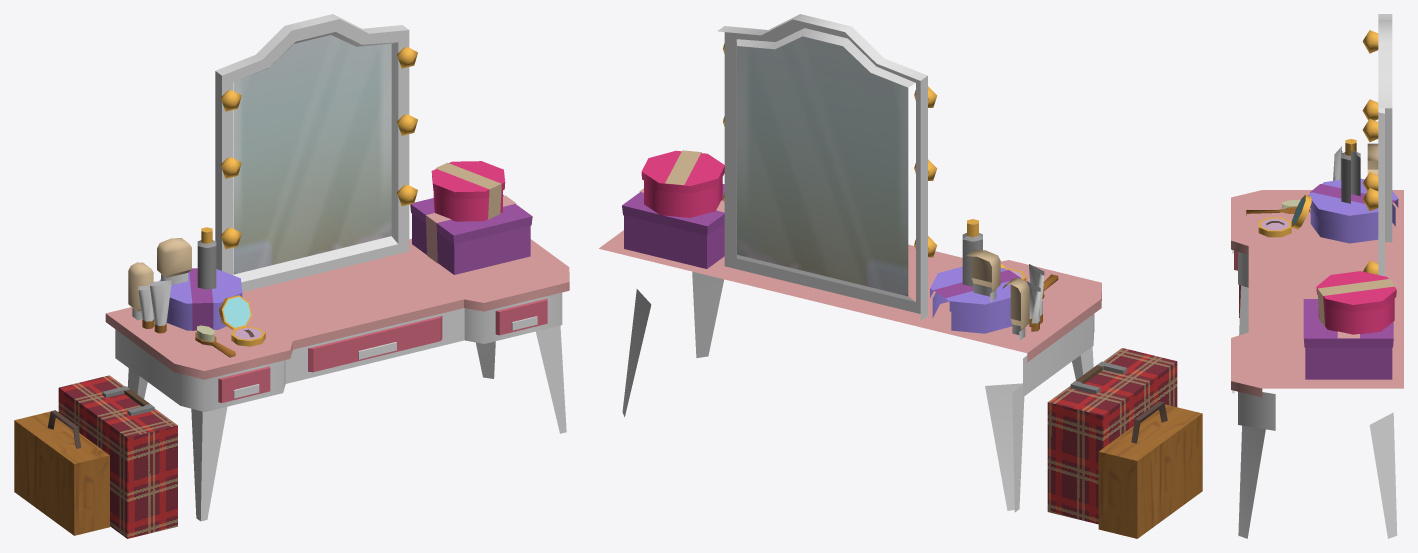
Rendered from interior_C_004.fbx.
3 views of the same model, side by side, from view 1: azimuth 30°, elevation 25°; view 2: azimuth 150°, elevation 25°; view 3: azimuth 270°, elevation 25° (orthographic). The views are drawn at different scales.
Parts seen in each view (by area): view 1: interior_C_004; view 2: interior_C_004; view 3: interior_C_004.
Part boxes in pixels (x1,y1,x2,y2): interior_C_004: [14, 14, 569, 538]; interior_C_004: [599, 14, 1202, 538]; interior_C_004: [1231, 14, 1403, 538].
Bounding box in the file's own units: 228 × 178 × 67.38.
